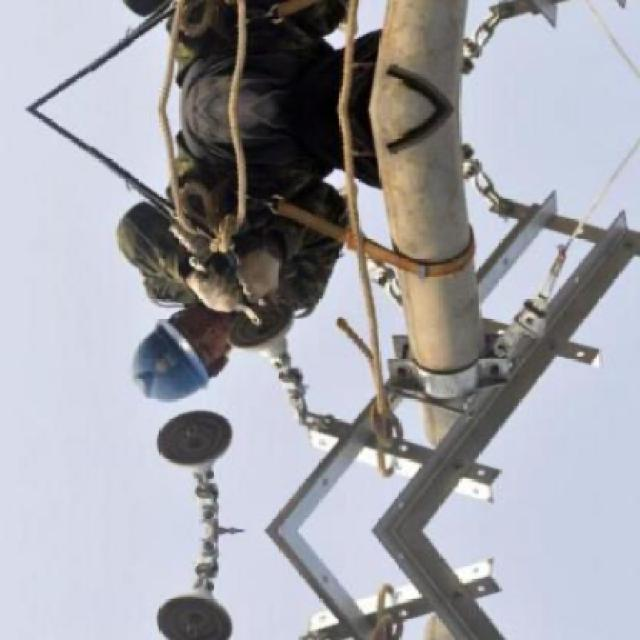con casco: (111, 278, 283, 443)
